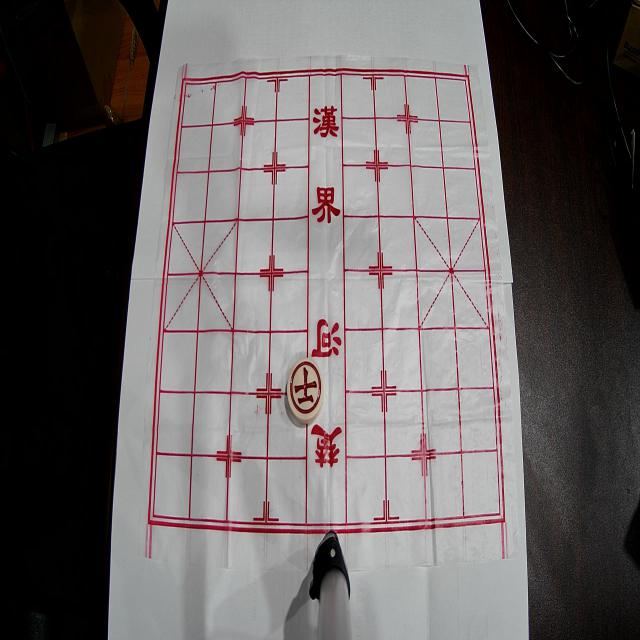red-guard: (287, 358, 324, 423)
